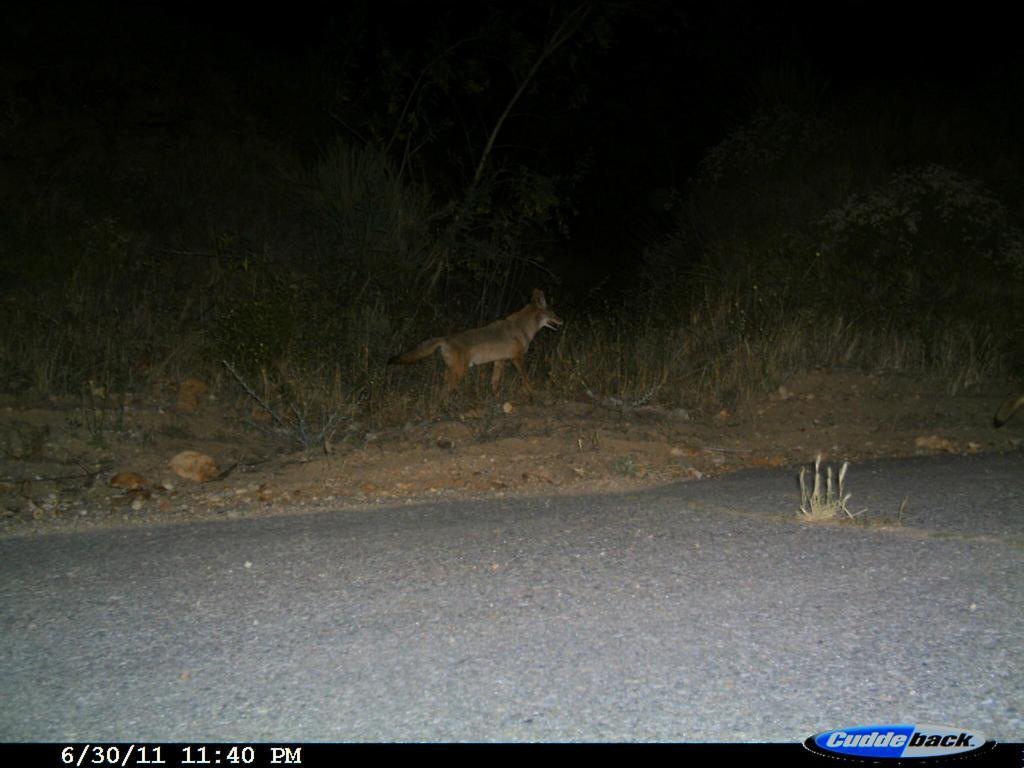coyote: (391, 287, 565, 409)
